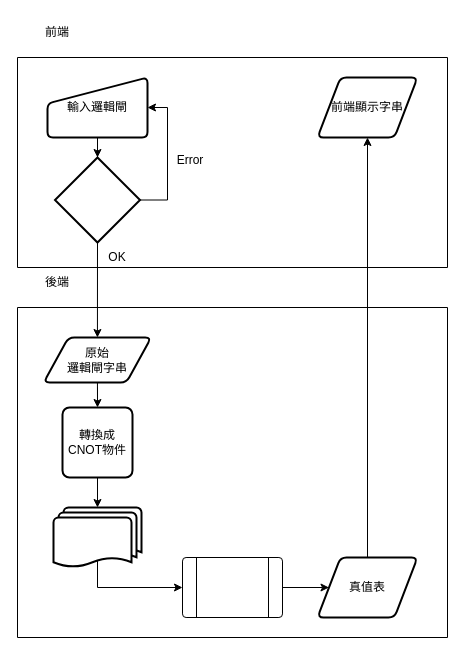
Some shapes in this 465 by 655 pixel diagram are drawn without their labels. The shapes that lost their labels are listed below. From the top down, each one's centre as x and y in pixels, then its label:
the point at 97,199: 檢查有無 錯誤輸入
the point at 97,537: CNOT物件
the point at 232,587: 模擬器
